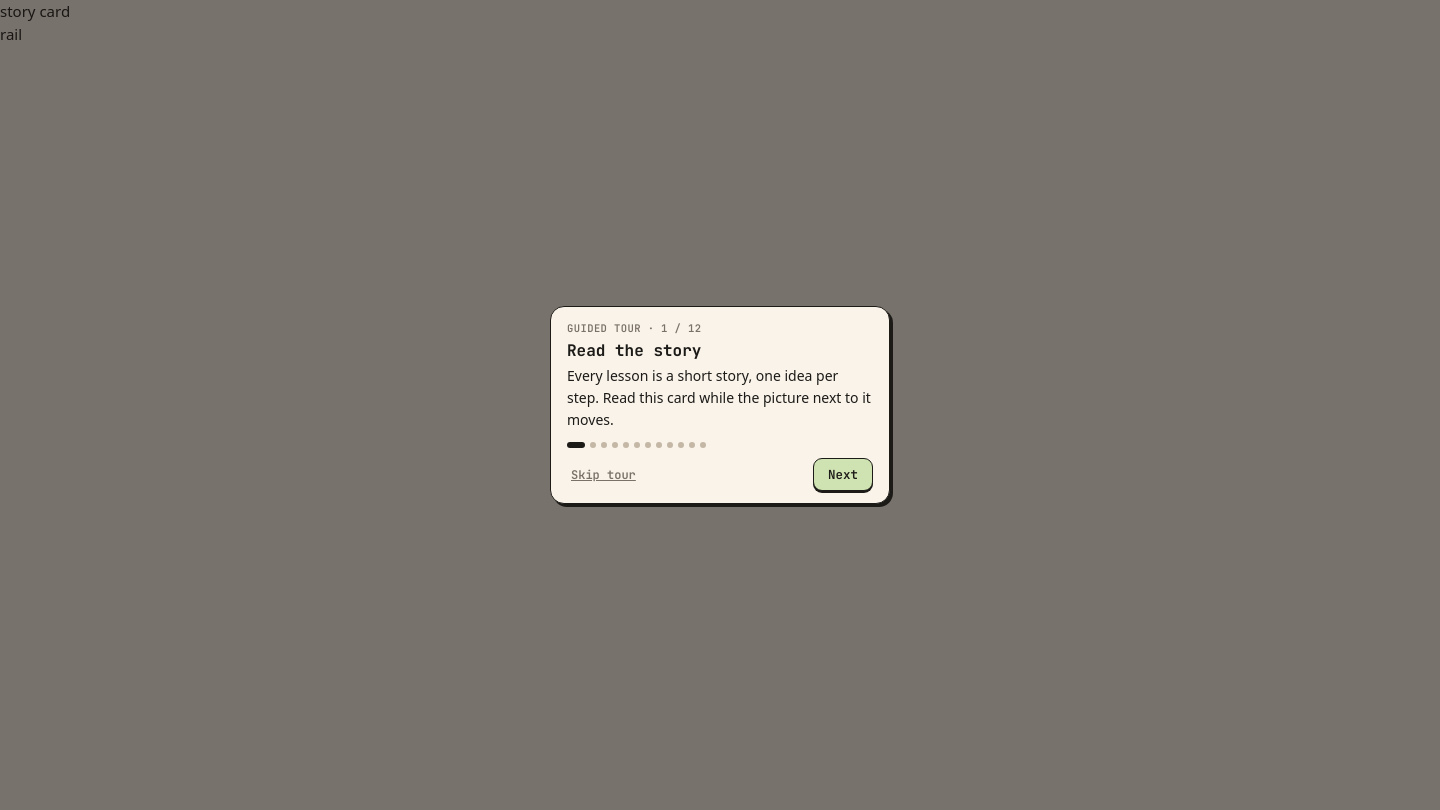
Test: Tour › Next and Back walk the steps and tell the page which step is showing
Click the button "Next". click: [843, 475]
box: [813,458,873,491]
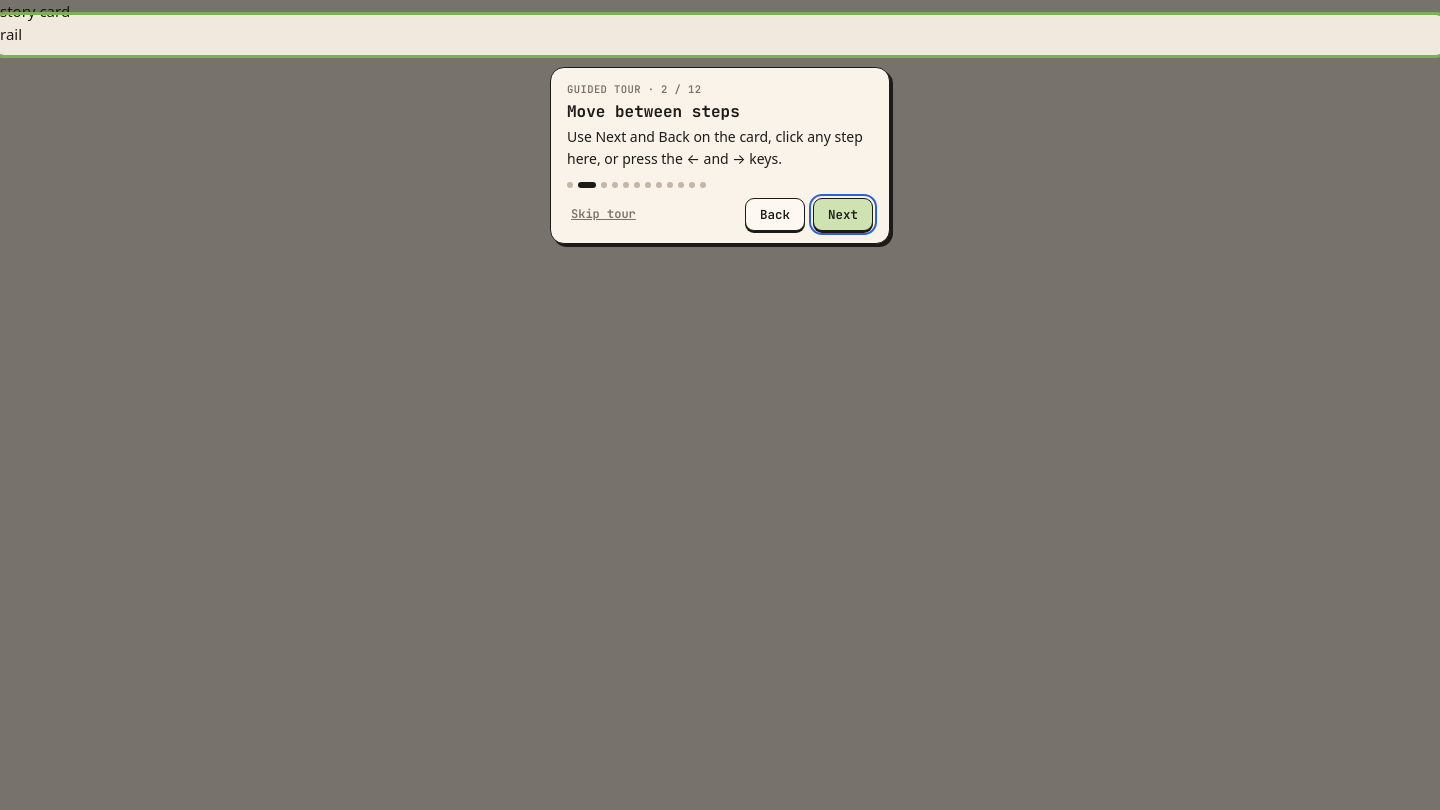
Now the dialog "Move between steps" is shown, box [550,66,890,244]
Click the button "Back". click: [775, 214]
box: [745,198,805,231]
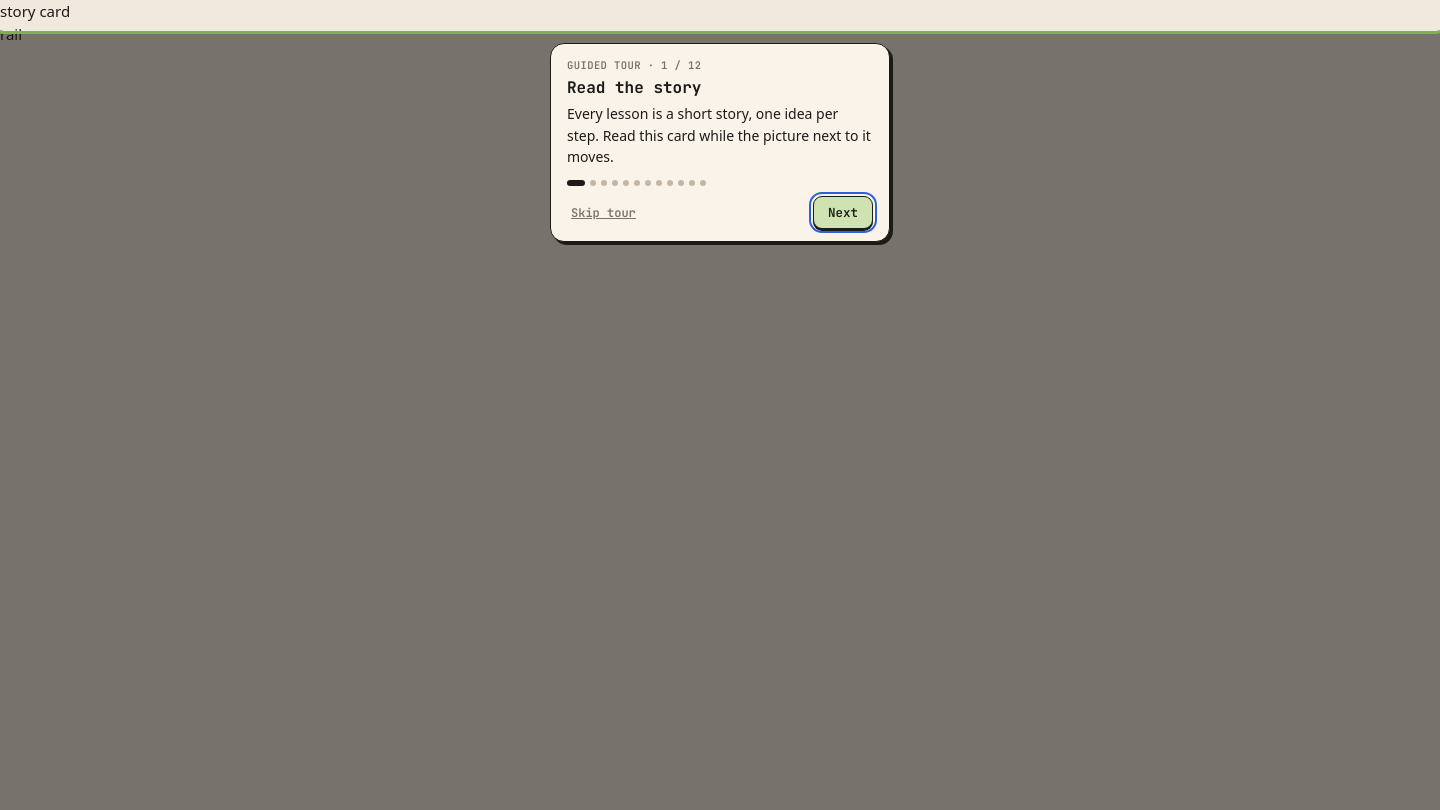
Now the dialog "Read the story" is shown, box [550,43,890,242]
